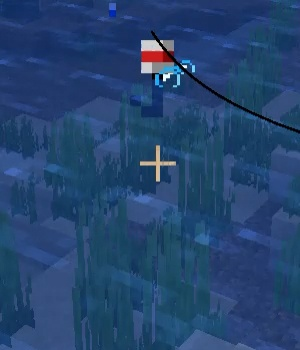up: (131, 31, 176, 119)
